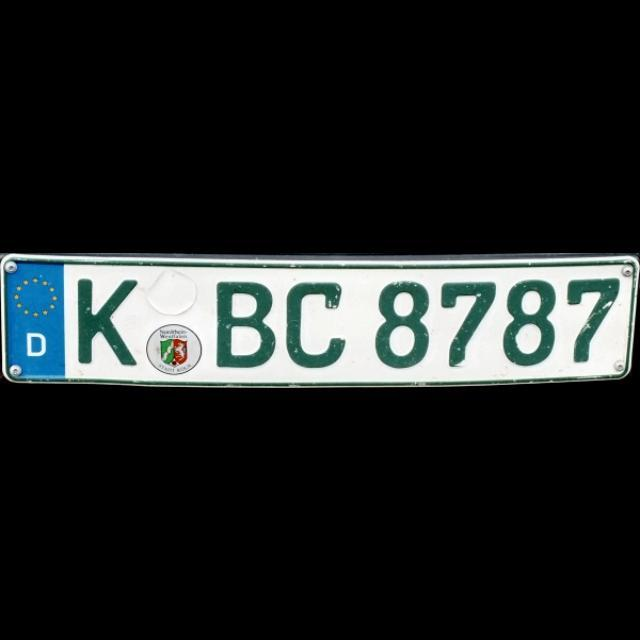license-plates: (0, 255, 640, 386)
